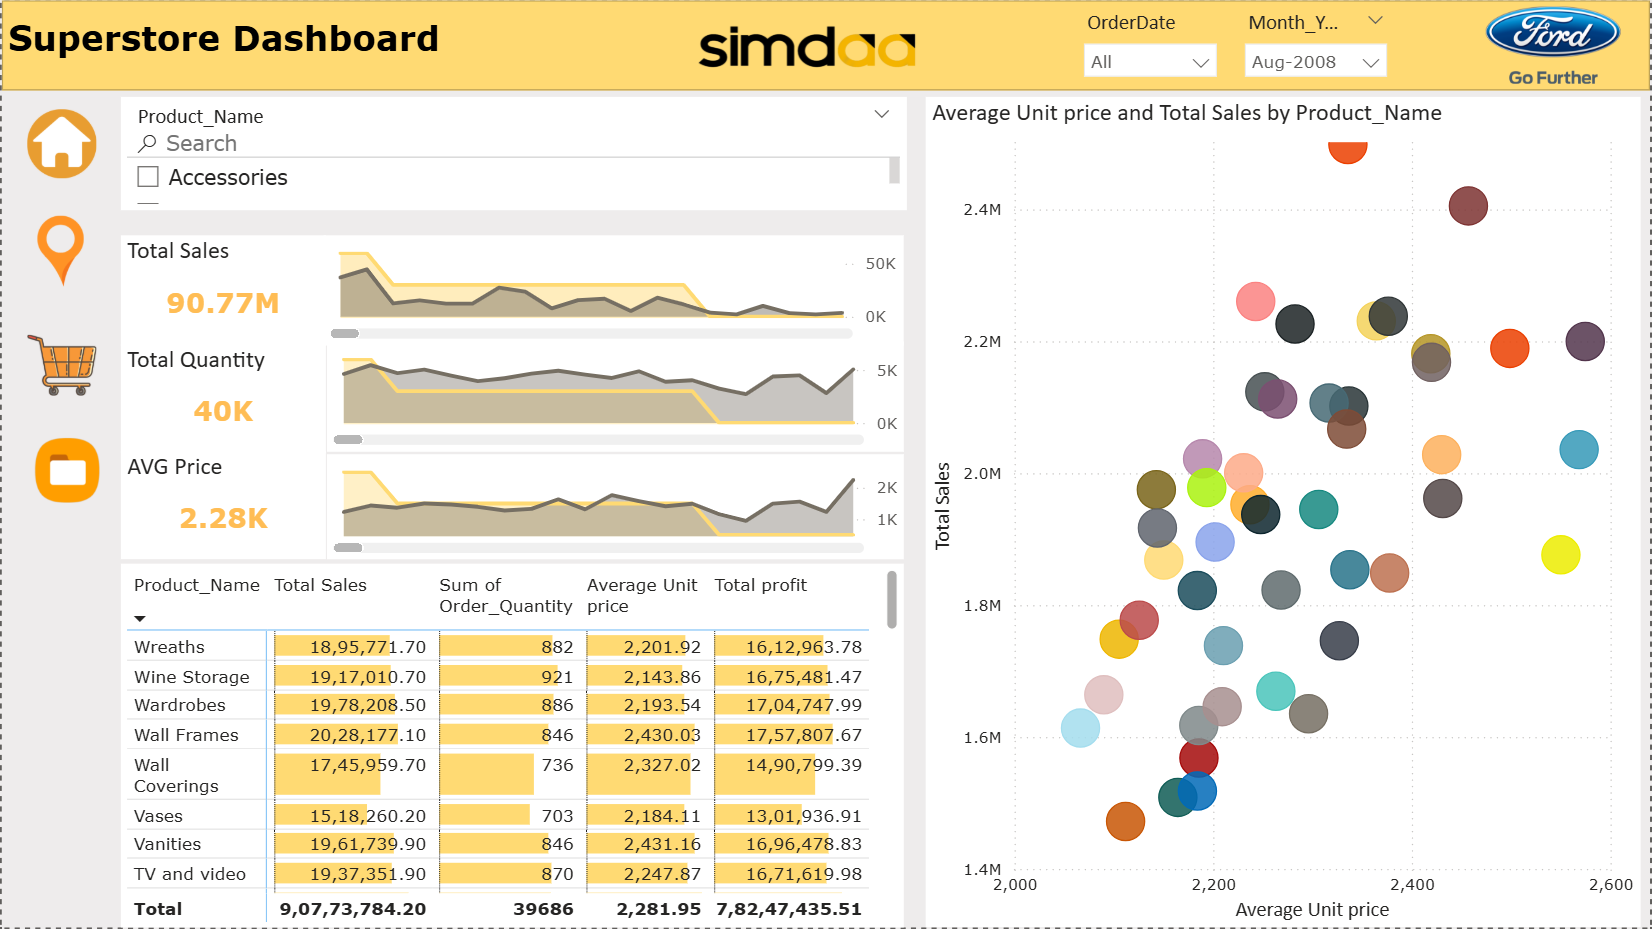

What the dashboard file says about the page in this screenshot:
{"tool":"powerbi","page":{"name":"Product Analysis","canvas":[1280,720],"ordinal":2},"visuals":[{"type":"shape","box":[0,0,1280,70],"z":0},{"type":"areaChart","fields":{"Category":["DIM_City.City_Name"],"Y":["CountNonNull(DIM_City.Time_Zone)"],"Y2":["Sum(Fact_Sales.Unit_Cost)"]},"box":[251.1,183.3,450,85.4],"z":0,"group":"g1"},{"type":"card","title":"Total Sales","fields":{"Values":["DIM_City.Total Sales"]},"box":[93.3,183.3,159.6,85.4],"z":1000,"group":"g1"},{"type":"slicer","fields":{"Values":["DIM_Product.Product_Name"]},"box":[93.3,75,610,88.3],"z":1000},{"type":"card","title":"Total Quantity","fields":{"Values":["Sum(Fact_Sales.Order_Quantity)"]},"box":[93.3,268.7,159.6,83.7],"z":2000,"group":"g1"},{"type":"pivotTable","fields":{"Rows":["DIM_Product.Product_Name"],"Values":["DIM_City.Total Sales","Sum(Fact_Sales.Order_Quantity)","Fact_Sales.Average Unit price","Fact_Sales.Total profit"]},"box":[93.3,436.7,608.3,283.3],"z":2000},{"type":"scatterChart","fields":{"Category":["DIM_Product.Product_Name"],"Y":["DIM_City.Total Sales"],"X":["Fact_Sales.Average Unit price"]},"box":[716.7,75,555,645],"z":3000},{"type":"card","title":"AVG Price","fields":{"Values":["Fact_Sales.Average Unit price"]},"box":[93.3,350.7,159.6,83.7],"z":3000,"group":"g1"},{"type":"textbox","box":[0,8.7,347.6,61.1],"z":4000},{"type":"areaChart","fields":{"Category":["DIM_City.City_Name"],"Y":["CountNonNull(DIM_City.Time_Zone)"],"Y2":["Avg(Fact_Sales.Unit_Cost)"]},"box":[252.9,352.5,448.2,82],"z":4000,"group":"g1"},{"type":"slicer","fields":{"Values":["Fact_Sales.OrderDate"]},"box":[830.1,3.5,123.8,64.5],"z":5000},{"type":"areaChart","fields":{"Category":["DIM_City.City_Name"],"Y":["CountNonNull(DIM_City.Time_Zone)"],"Y2":["Max(Fact_Sales.Unit_Cost)"]},"box":[252.9,267,448.2,85.4],"z":5000,"group":"g1"},{"type":"slicer","fields":{"Values":["date.Month_Year"]},"box":[954.2,2.9,130.9,62.5],"z":6000},{"type":"image","box":[15,75,63.3,73.3],"z":7000},{"type":"image","box":[10,163.3,71.7,65],"z":8000},{"type":"image","box":[15,255,63.3,56.7],"z":9000},{"type":"image","box":[20,335,61.7,60],"z":10000},{"type":"group","id":"g1","title":"Group 1","box":[93.3,183.3,608.3,251.7],"z":11000},{"type":"image","box":[1130.2,0,149.8,69.8],"z":12000},{"type":"image","box":[516.2,0,223.2,68],"z":13000}]}

Visuals, with their boxes in screenshot pixels (x1, y1, x2, y2), scaled from the page's 1280x720 canvas onto the 1652x929 screenshot:
shape: 0,0,1651,90
areaChart - DIM_City.City_Name x CountNonNull(DIM_City.Time_Zone): 324,237,905,347
"Total Sales" card: 120,237,326,347
slicer - DIM_Product.Product_Name: 120,97,908,211
"Total Quantity" card: 120,347,326,455
pivotTable - DIM_Product.Product_Name x DIM_City.Total Sales: 120,563,906,928
scatterChart - DIM_Product.Product_Name x DIM_City.Total Sales: 925,97,1641,928
"AVG Price" card: 120,453,326,560
textbox: 0,11,449,90
areaChart - DIM_City.City_Name x CountNonNull(DIM_City.Time_Zone): 326,455,905,561
slicer - Fact_Sales.OrderDate: 1071,5,1231,88
areaChart - DIM_City.City_Name x CountNonNull(DIM_City.Time_Zone): 326,345,905,455
slicer - date.Month_Year: 1232,4,1400,84
image: 19,97,101,191
image: 13,211,105,295
image: 19,329,101,402
image: 26,432,105,510
"Group 1" group: 120,237,906,561
image: 1459,0,1651,90
image: 666,0,954,88
